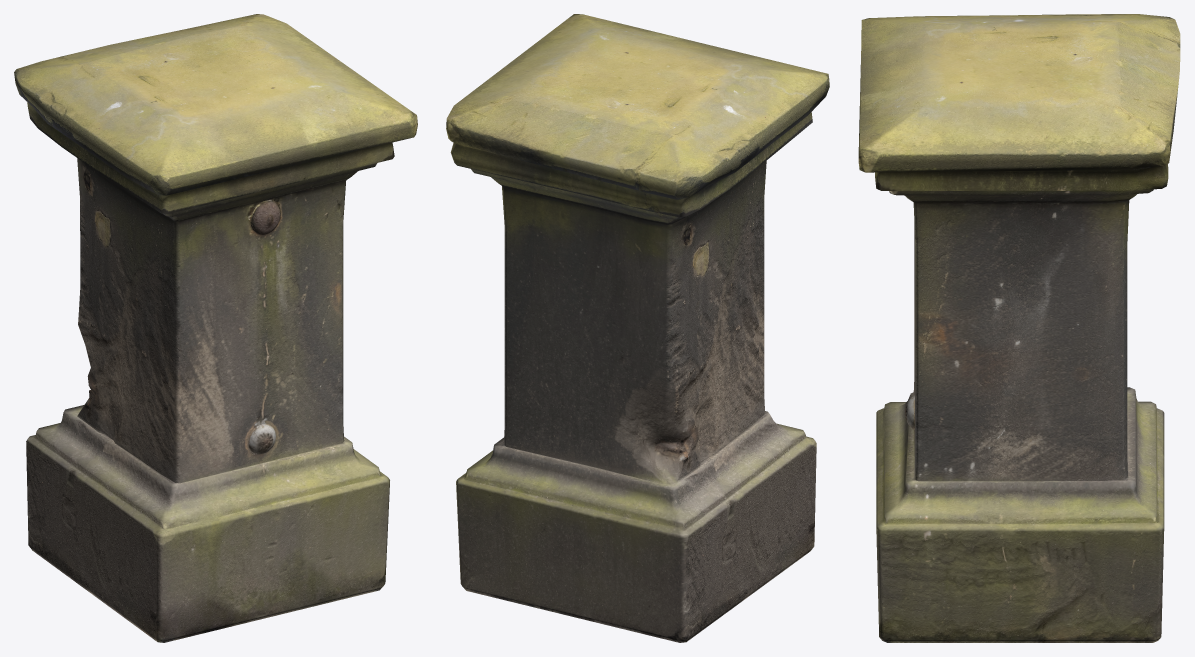
The model's file is sm_GraveColumn_01_01.fbx.
The picture shows the model from 3 angles, left to right: view 1: azimuth 30°, elevation 25°; view 2: azimuth 150°, elevation 25°; view 3: azimuth 270°, elevation 25°; orthographic projection. The views are drawn at different scales.
Parts seen in each view (by area): view 1: sm_GraveColumn_01_01_LOD0; view 2: sm_GraveColumn_01_01_LOD0; view 3: sm_GraveColumn_01_01_LOD0.
Part boxes in pixels (<box>): sm_GraveColumn_01_01_LOD0: <box>14,14,417,642</box>; sm_GraveColumn_01_01_LOD0: <box>446,14,829,642</box>; sm_GraveColumn_01_01_LOD0: <box>858,14,1180,642</box>.
Bounding box in the file's own units: 59.85 × 58.69 × 105.
